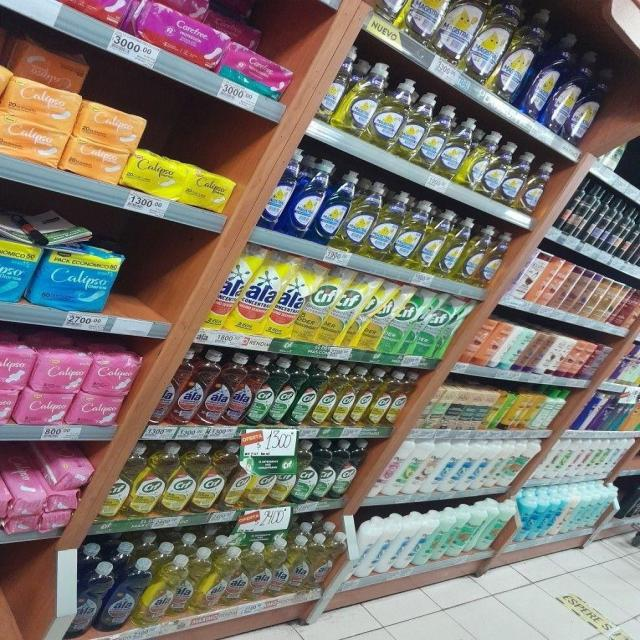ala_conc_amarillo: (290, 532, 312, 594), (247, 542, 269, 600), (270, 537, 290, 597)
cif_conc_bot_amarilla: (195, 443, 225, 512), (372, 371, 390, 426), (391, 372, 408, 426)
cif_conc_botella_verde: (335, 439, 359, 498), (294, 440, 316, 502), (316, 438, 335, 501)
magistral_con_azul: (290, 172, 319, 238), (319, 177, 347, 243)
